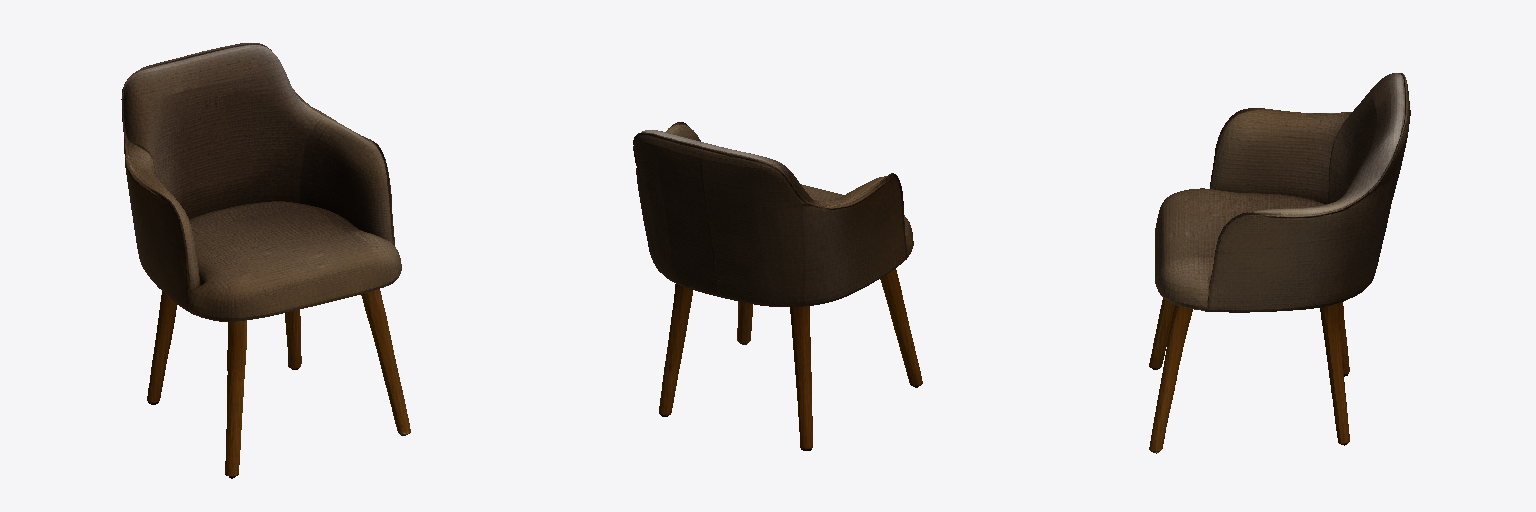
3 renders of one model, left to right at view 1: azimuth 30°, elevation 25°; view 2: azimuth 150°, elevation 25°; view 3: azimuth 270°, elevation 25°, orthographic.
Visible parts, largest first — view 1: geometry_0; view 2: geometry_0; view 3: geometry_0.
Boxes of the visible parts, <box> form: geometry_0: <box>121,43,410,478</box>; geometry_0: <box>633,122,922,450</box>; geometry_0: <box>1149,73,1410,453</box>.
Size of the model in its own units: 0.7269 by 0.9979 by 0.7612.
1 materials, 1 textured.